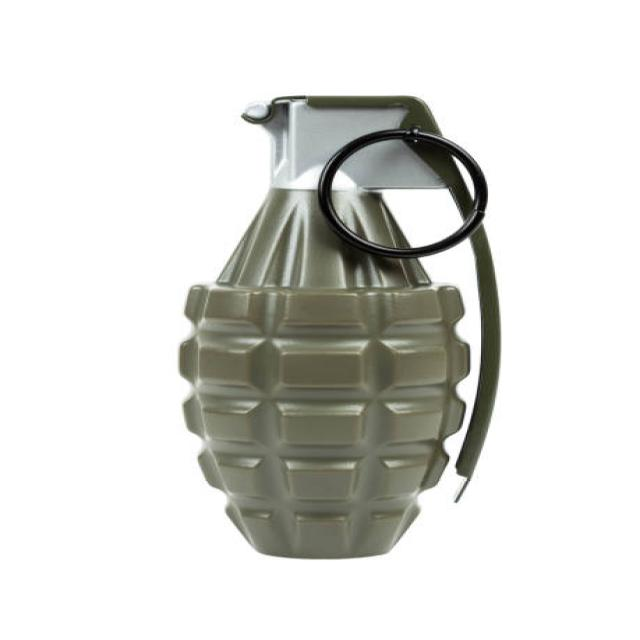grenade: (169, 88, 510, 565)
